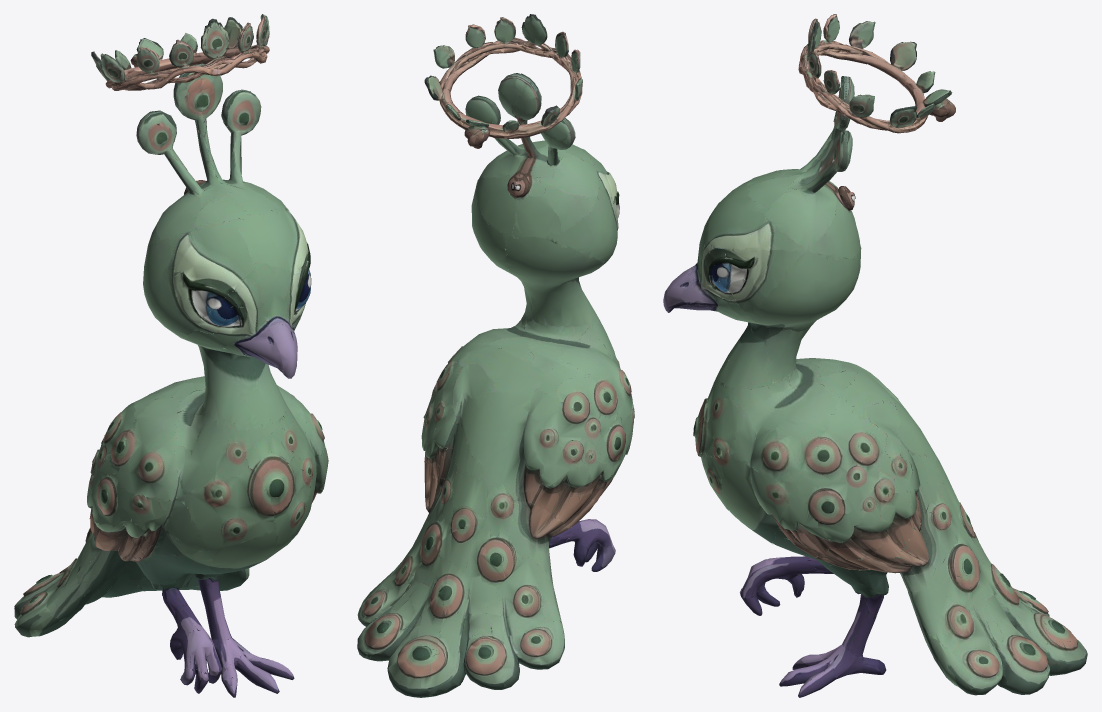
3 views of the same model, side by side, from view 1: azimuth 30°, elevation 25°; view 2: azimuth 150°, elevation 25°; view 3: azimuth 270°, elevation 25° (orthographic). The views are drawn at different scales.
Parts seen in each view (by area): view 1: Mesh_0; view 2: Mesh_0; view 3: Mesh_0.
Boxes of the visible parts, x1=… form: Mesh_0: x1=14, y1=14, x2=328, y2=697; Mesh_0: x1=357, y1=14, x2=634, y2=697; Mesh_0: x1=663, y1=14, x2=1087, y2=697.
Bounding box in the file's own units: 0.6718 × 1.9 × 1.14.
1 material, 1 textured.
